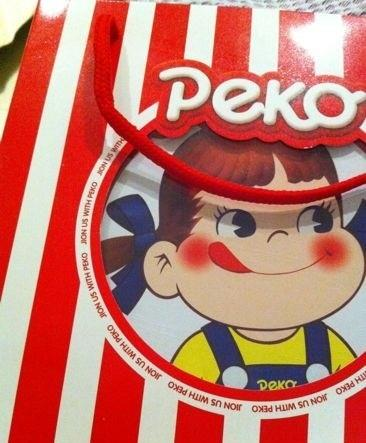FUJIYA: (131, 118, 357, 403)
